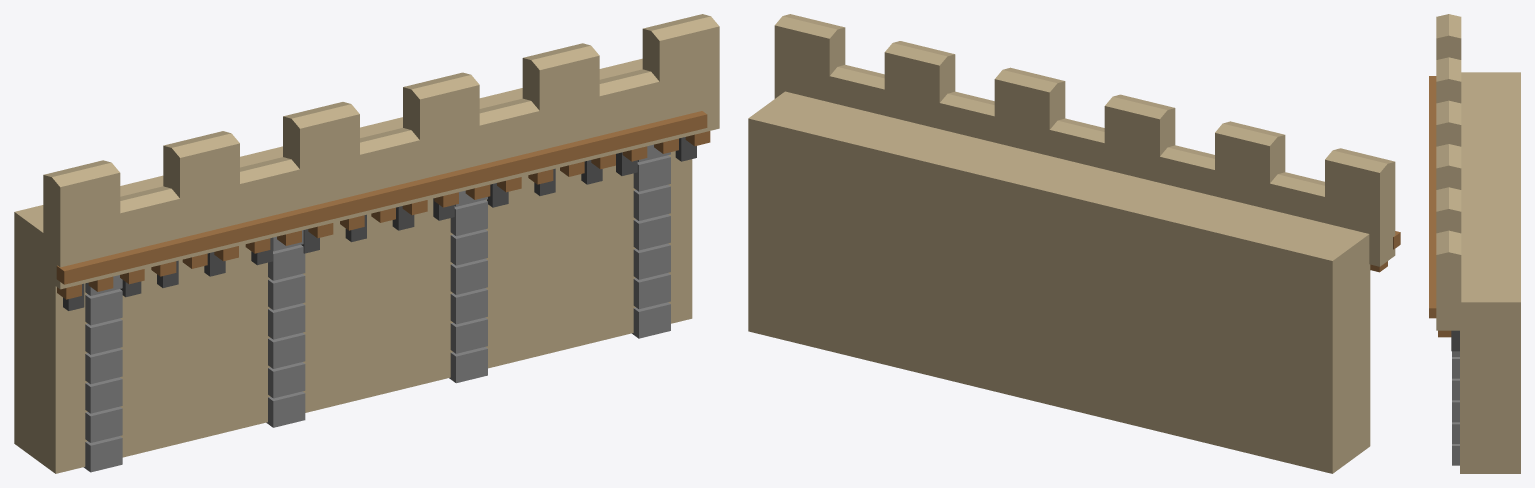
Rendered from PFE-Props-Mur.fbx.
3 views of the same model, side by side, from view 1: azimuth 30°, elevation 25°; view 2: azimuth 150°, elevation 25°; view 3: azimuth 270°, elevation 25° (orthographic). The views are drawn at different scales.
Visible parts, largest first — view 1: Cube.021; view 2: Cube.021; view 3: Cube.021.
Part boxes in pixels (x1=…): Cube.021: x1=14, y1=14, x2=719, y2=473; Cube.021: x1=748, y1=14, x2=1400, y2=473; Cube.021: x1=1429, y1=14, x2=1520, y2=473.
Size of the model in its own units: 1383 by 614 by 225.
